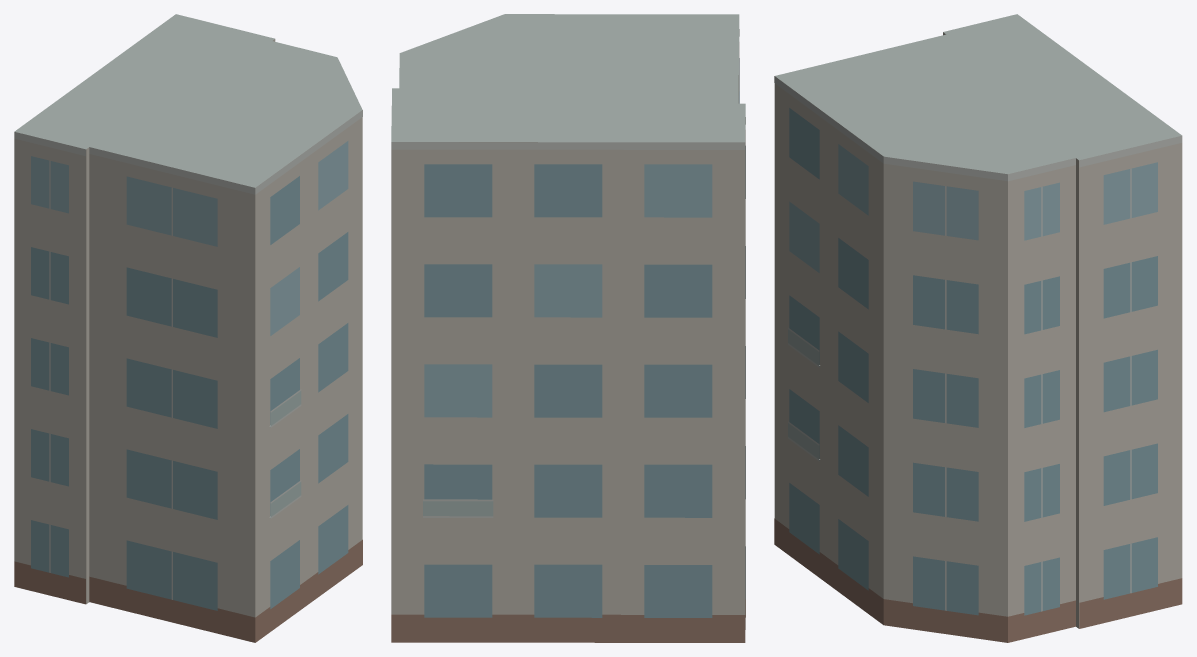
The model's file is survey-upis-32959771.glb.
3 renders of one model, left to right at view 1: azimuth 30°, elevation 25°; view 2: azimuth 150°, elevation 25°; view 3: azimuth 270°, elevation 25°, orthographic. The views are drawn at different scales.
Parts seen in each view (by area): view 1: survey-upis-32959771.tmp; view 2: survey-upis-32959771.tmp; view 3: survey-upis-32959771.tmp.
Boxes of the visible parts, x1,y1,x2,y2 form: survey-upis-32959771.tmp: [14, 14, 362, 642]; survey-upis-32959771.tmp: [391, 14, 745, 642]; survey-upis-32959771.tmp: [774, 14, 1182, 642].
Size of the model in its own units: 11.78 by 16.05 by 12.67.
